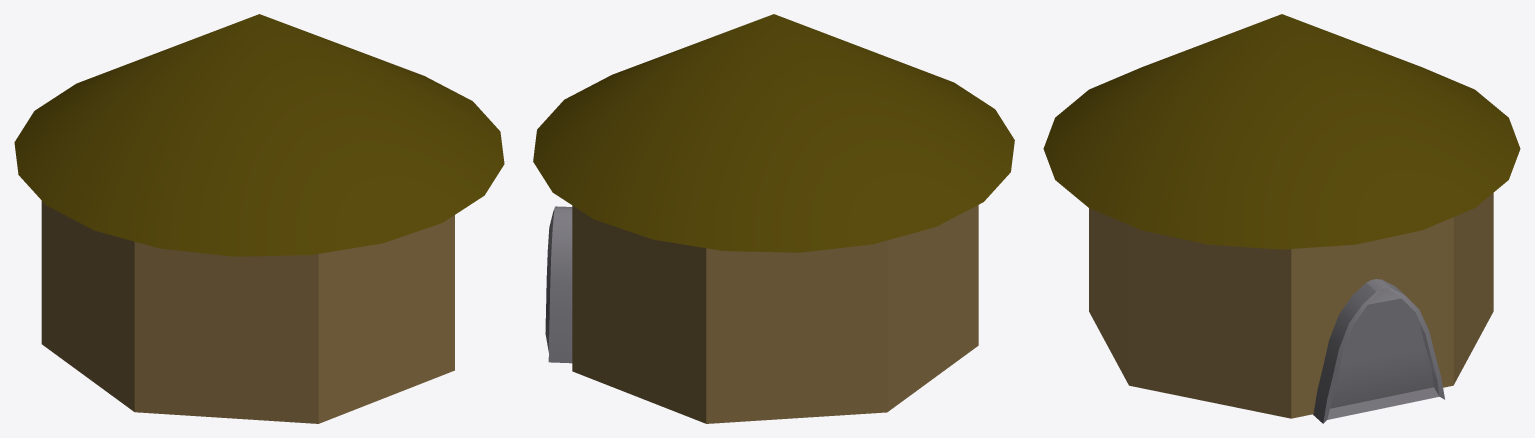
File: Hut.fbx
The picture shows the model from 3 angles, left to right: view 1: azimuth 30°, elevation 25°; view 2: azimuth 150°, elevation 25°; view 3: azimuth 270°, elevation 25°; orthographic projection. The views are drawn at different scales.
Parts seen in each view (by area): view 1: polySurface66; view 2: polySurface66; view 3: polySurface66.
Part boxes in pixels (x1=…): polySurface66: x1=14, y1=14, x2=504, y2=423; polySurface66: x1=533, y1=14, x2=1014, y2=423; polySurface66: x1=1043, y1=14, x2=1520, y2=423.
Bounding box in the file's own units: 214 × 157 × 214.
